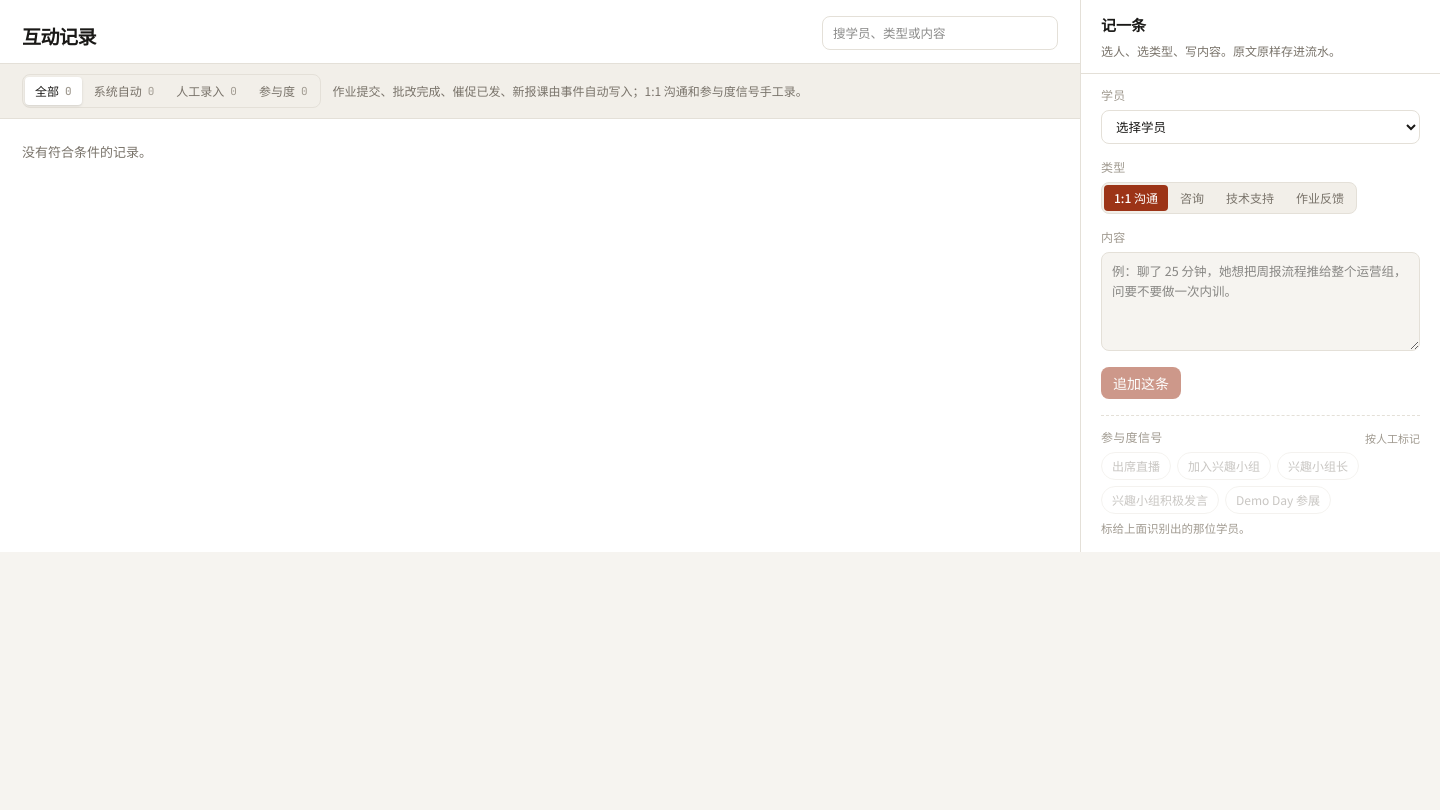
Scenario: 参与度信号确认 › 确认后才真正写入并显示已写入
Select "学员甲" in the dropdown labelled "学员" at [1260, 126], box top-left (1101, 110), bottom-right (1420, 144)
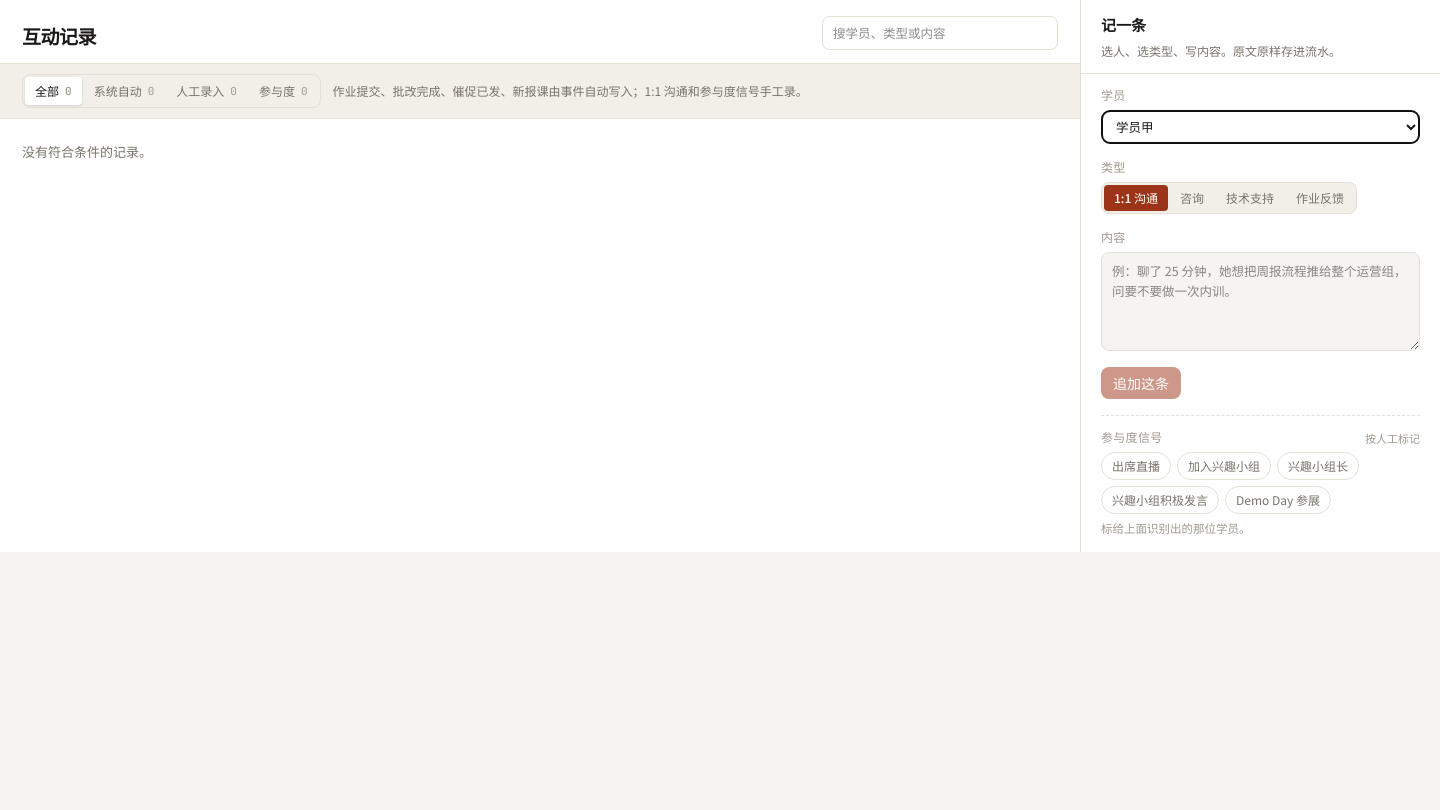
Click the button "出席直播" at [1136, 466], box top-left (1101, 452), bottom-right (1171, 480)
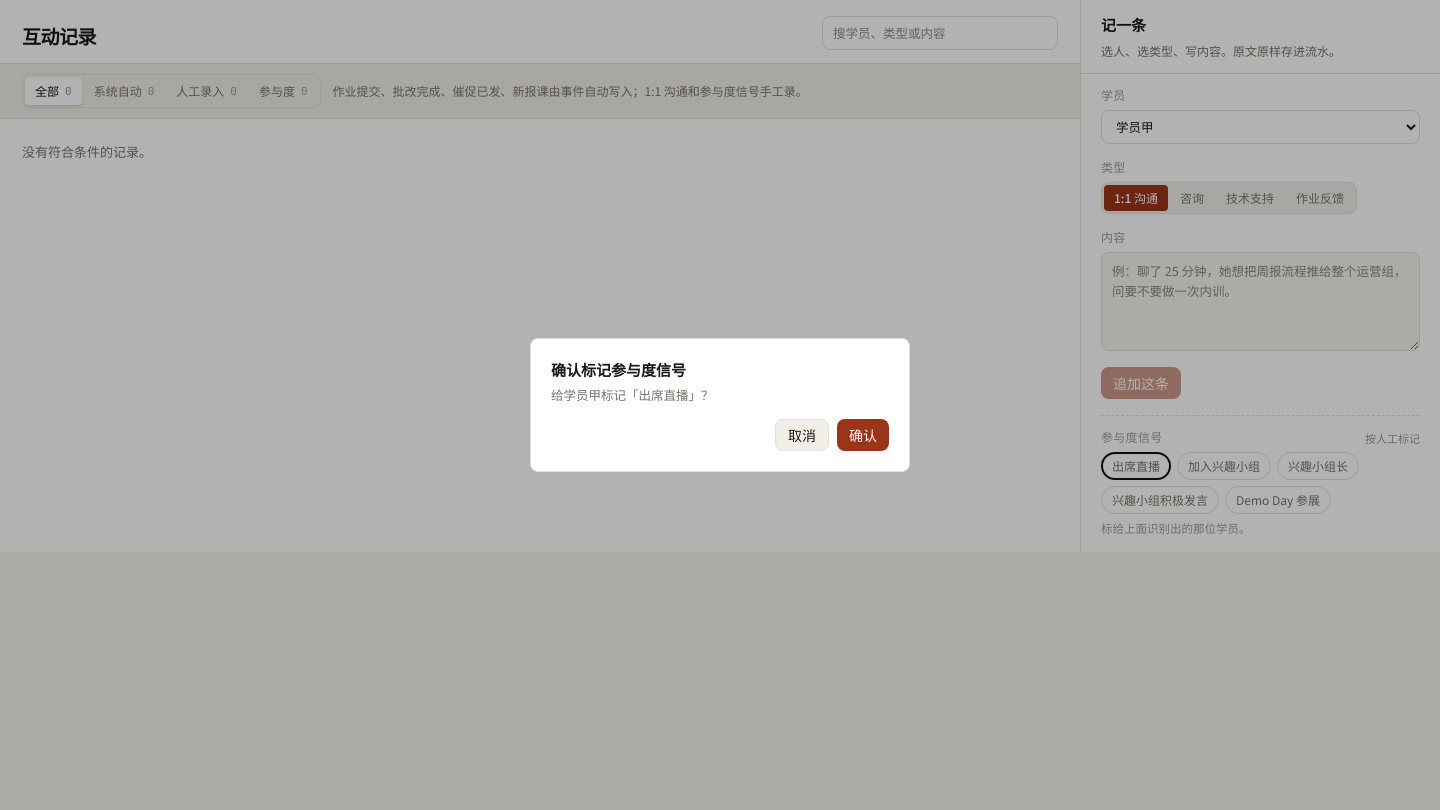
Click the button "确认" at [863, 435], box top-left (837, 419), bottom-right (889, 451)
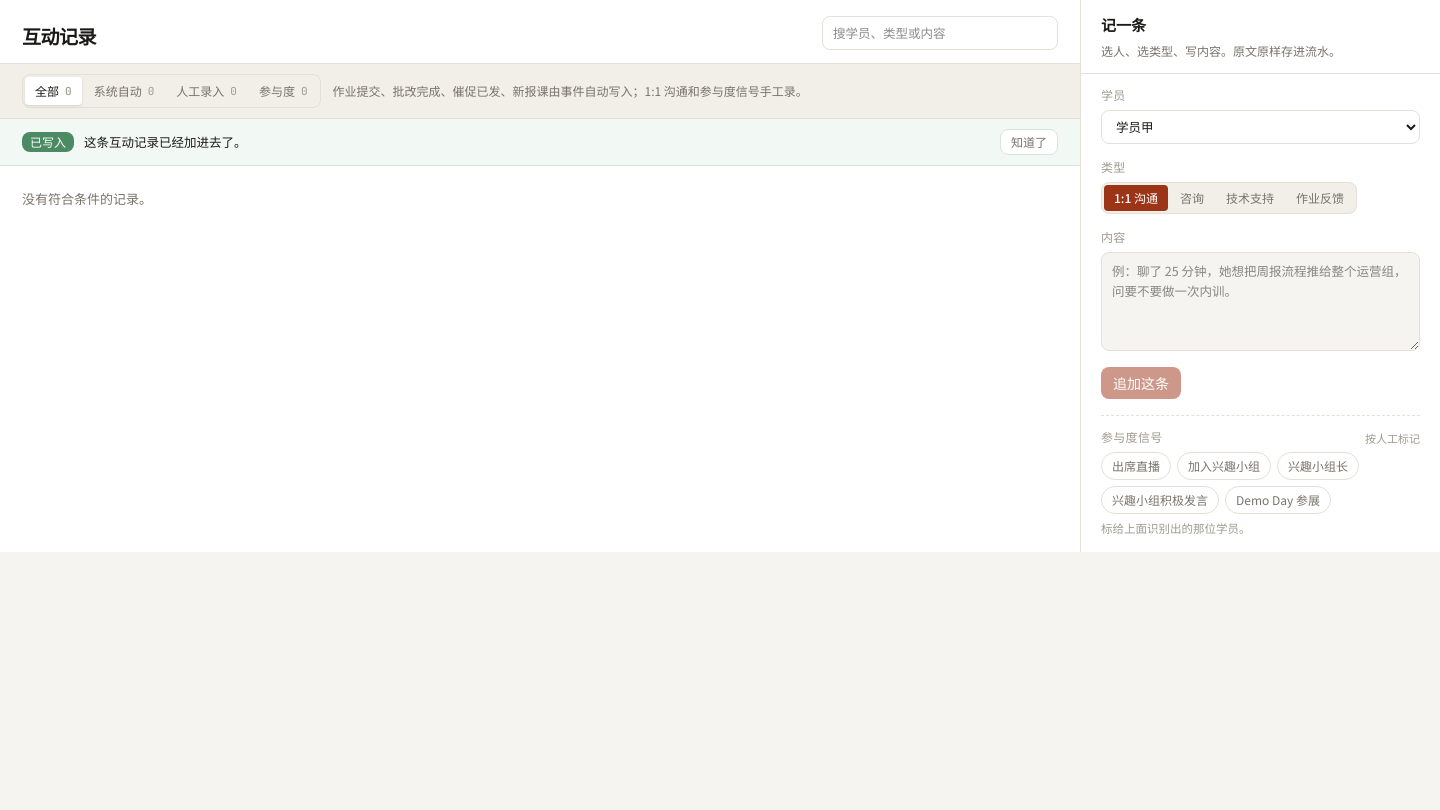
Result: the text "已写入" is shown at top-left (22, 132), bottom-right (74, 152)
